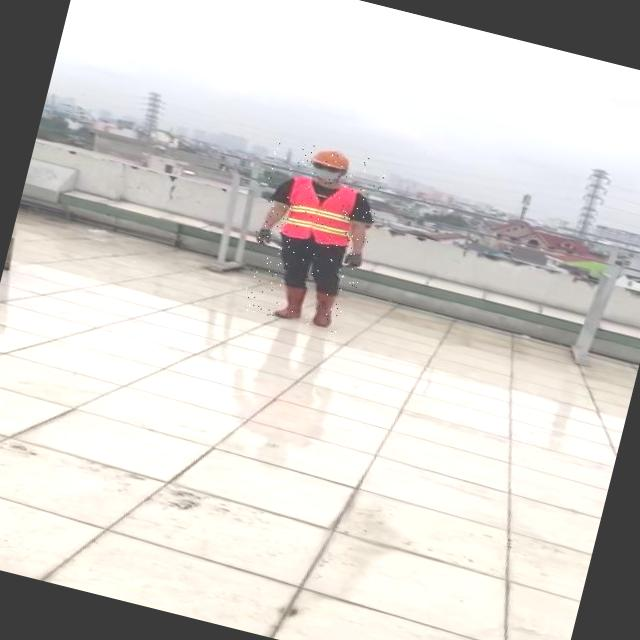boots: (272, 282, 309, 322), (308, 290, 341, 330)
gloves: (241, 218, 277, 262), (336, 246, 363, 277)
helmet: (311, 144, 352, 170)
vest: (279, 173, 363, 250)
